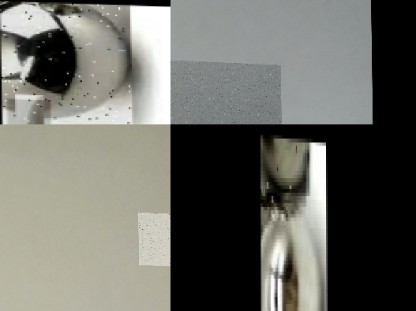ironball: (0, 0, 132, 124), (260, 201, 324, 311), (260, 133, 306, 199)
